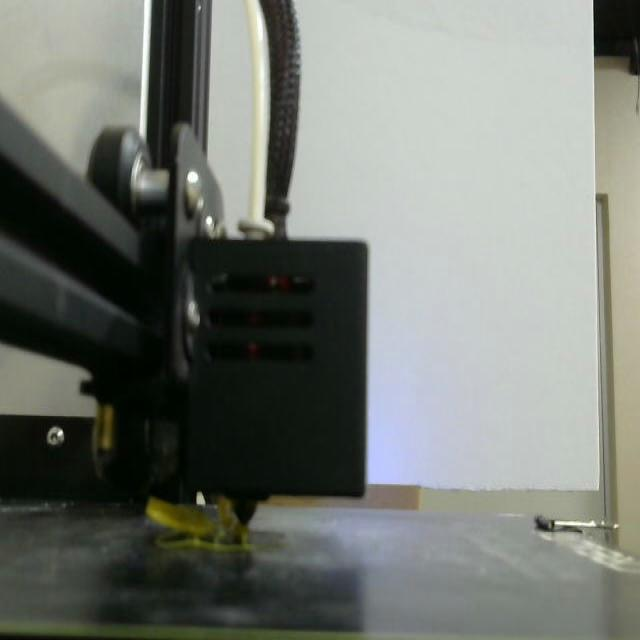spaghetti: (147, 497, 251, 551)
